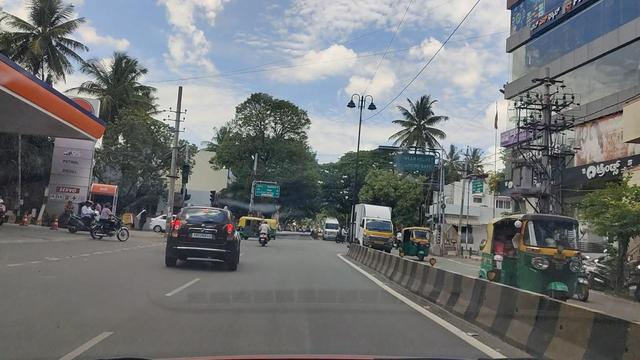LMV: (158, 199, 250, 275)
